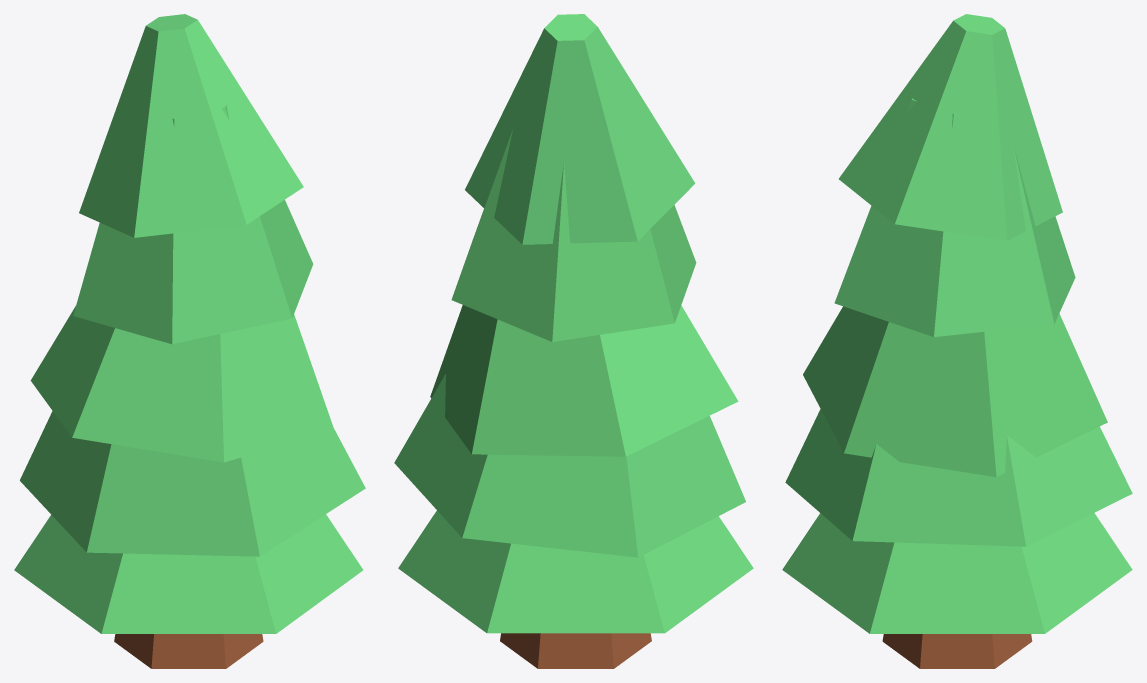
File: Pino.fbx
The picture shows the model from 3 angles, left to right: view 1: azimuth 30°, elevation 25°; view 2: azimuth 150°, elevation 25°; view 3: azimuth 270°, elevation 25°; orthographic projection.
Parts seen in each view (by area): view 1: Cylinder.006; view 2: Cylinder.006; view 3: Cylinder.006.
Part boxes in pixels (box(x1,y1,x2,y2)): Cylinder.006: box(14, 14, 365, 668); Cylinder.006: box(394, 14, 753, 668); Cylinder.006: box(782, 14, 1132, 668).
Size of the model in its own units: 436 by 910 by 468.
